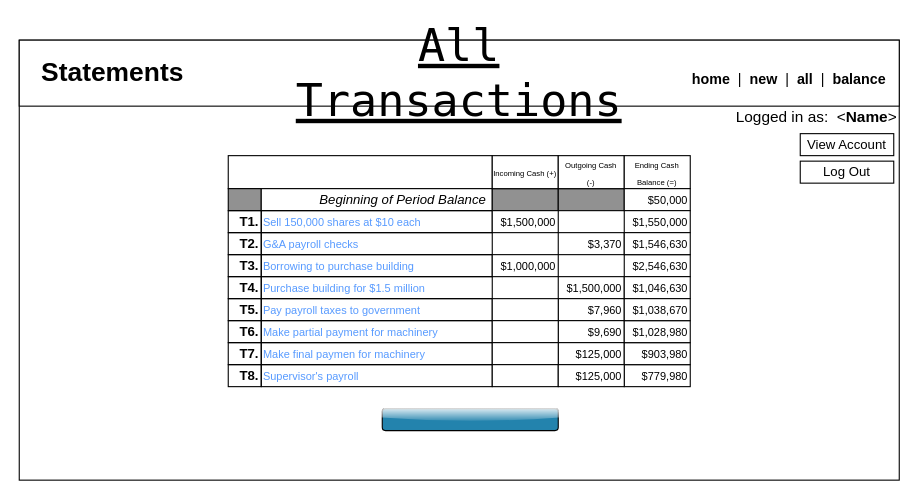
The diagram is 919 pixels wide and 499 high, and some of its shapes have lost their labels. The centre of each missing label's shape, as x and y in pixels:
Show More Transactions: the point at 469,419
Transaction Number and Description: the point at 359,172
